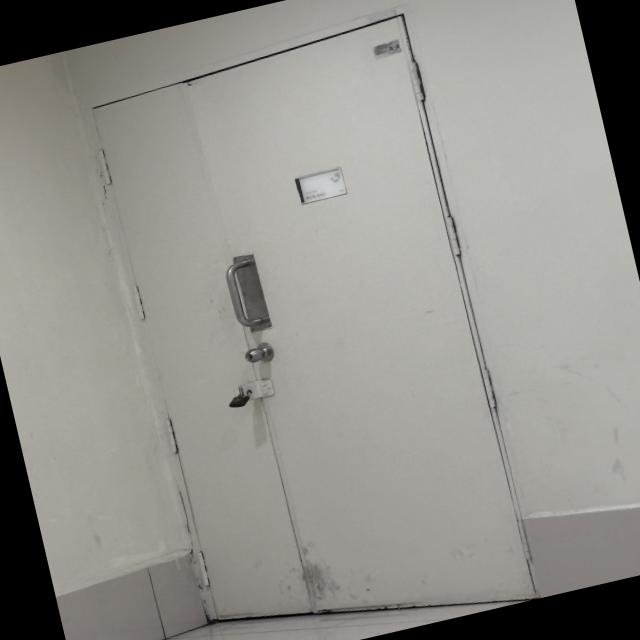door: (84, 3, 540, 621)
